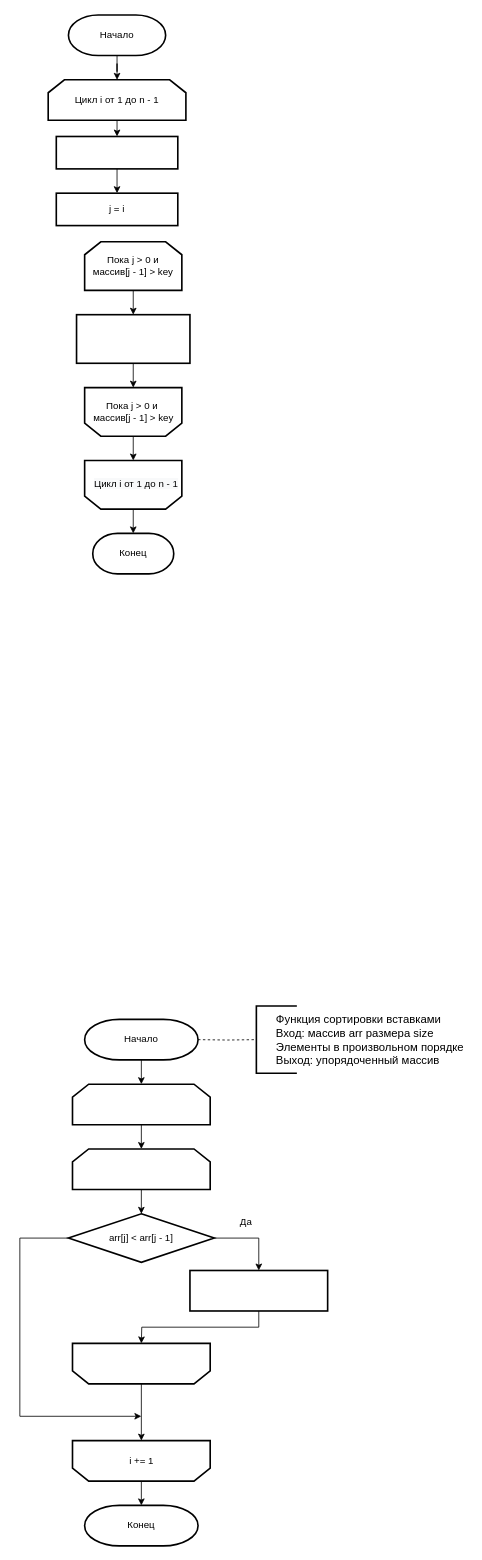
Image size: 482x1560. Some labels were removed from this diagram. The box of each missing label's shape, as (x1, y1, x2, y2) in pixels:
j -= 1: (71, 1342, 211, 1384)
key = массив[i]: (55, 135, 178, 169)
Обмен arr[j] и arr[j - 1]: (189, 1269, 328, 1311)
Обмен местами массив[j] и массив[j - 1]: (75, 313, 190, 364)
Цикл i от 1 до size: (71, 1083, 211, 1125)
Цикл j от i до 1: (71, 1148, 211, 1190)
